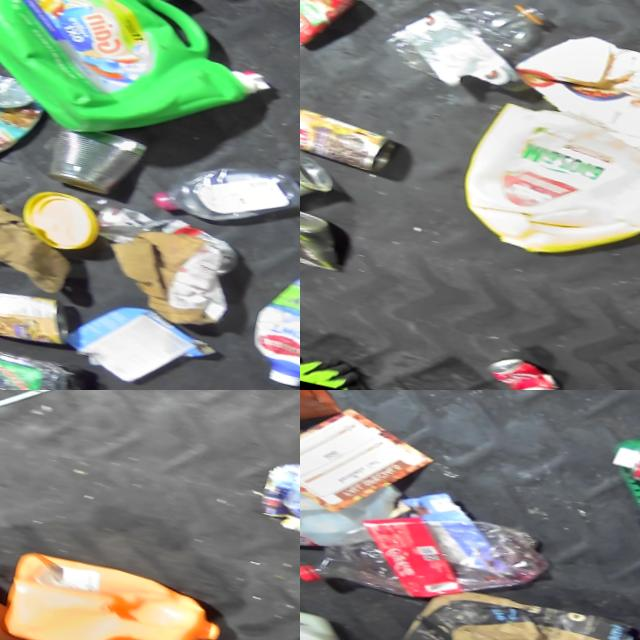can: (42, 119, 151, 201), (300, 107, 397, 177), (0, 278, 80, 354), (247, 455, 300, 541), (300, 136, 344, 221), (300, 0, 361, 52), (300, 198, 341, 272), (482, 355, 562, 390)
milk_jug: (453, 91, 640, 282), (300, 427, 409, 573)
non_white_jug: (0, 0, 289, 168), (0, 545, 247, 640), (242, 258, 300, 390), (0, 54, 56, 189)
plastic_bottle: (300, 484, 548, 633), (373, 0, 553, 103), (150, 151, 300, 243)
